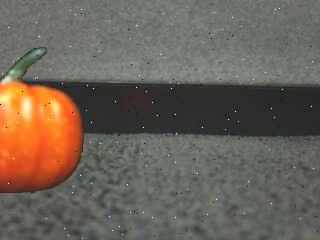Potato: (0, 47, 83, 194)
